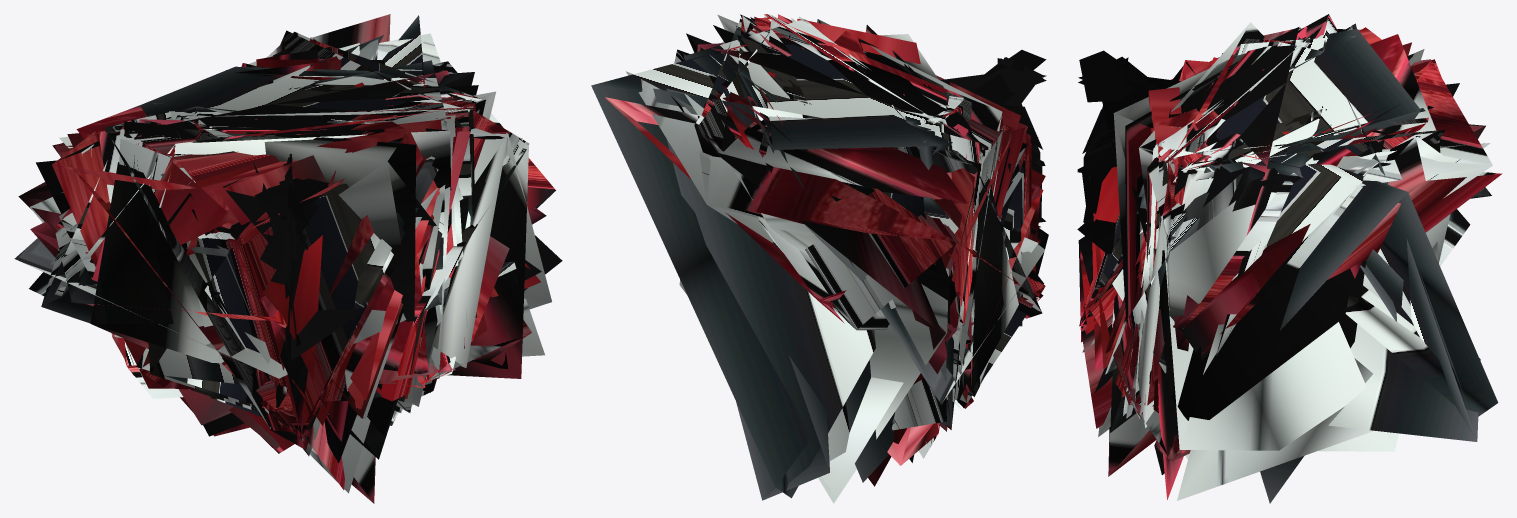
Rendered from carroBlanco.gltf.
3 renders of one model, left to right at view 1: azimuth 30°, elevation 25°; view 2: azimuth 150°, elevation 25°; view 3: azimuth 270°, elevation 25°, orthographic. The views are drawn at different scales.
Parts seen in each view (by area): view 1: frontWheelLeft_1, car01, windows; view 2: frontWheelLeft_1, car01; view 3: frontWheelLeft_1, car01, windows.
Boxes of the visible parts, x1=… form: frontWheelLeft_1: x1=14, y1=14, x2=562, y2=503; car01: x1=254, y1=87, x2=359, y2=361; windows: x1=223, y1=153, x2=298, y2=290; frontWheelLeft_1: x1=591, y1=14, x2=1048, y2=503; car01: x1=804, y1=50, x2=1046, y2=227; frontWheelLeft_1: x1=1078, y1=14, x2=1502, y2=503; car01: x1=1077, y1=50, x2=1326, y2=254; windows: x1=1082, y1=61, x2=1195, y2=153.
Bounding box in the file's own units: 2.37 × 1.93 × 1.93.
2 materials, 1 textured.
